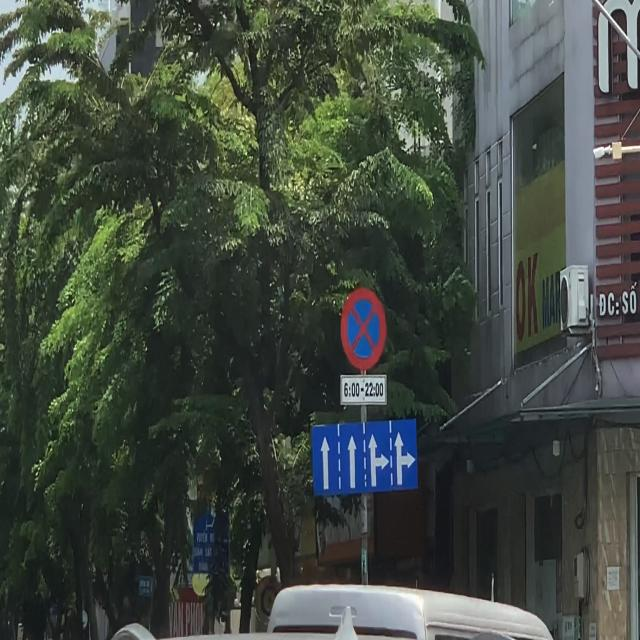Cam dung va do: (339, 286, 388, 374)
